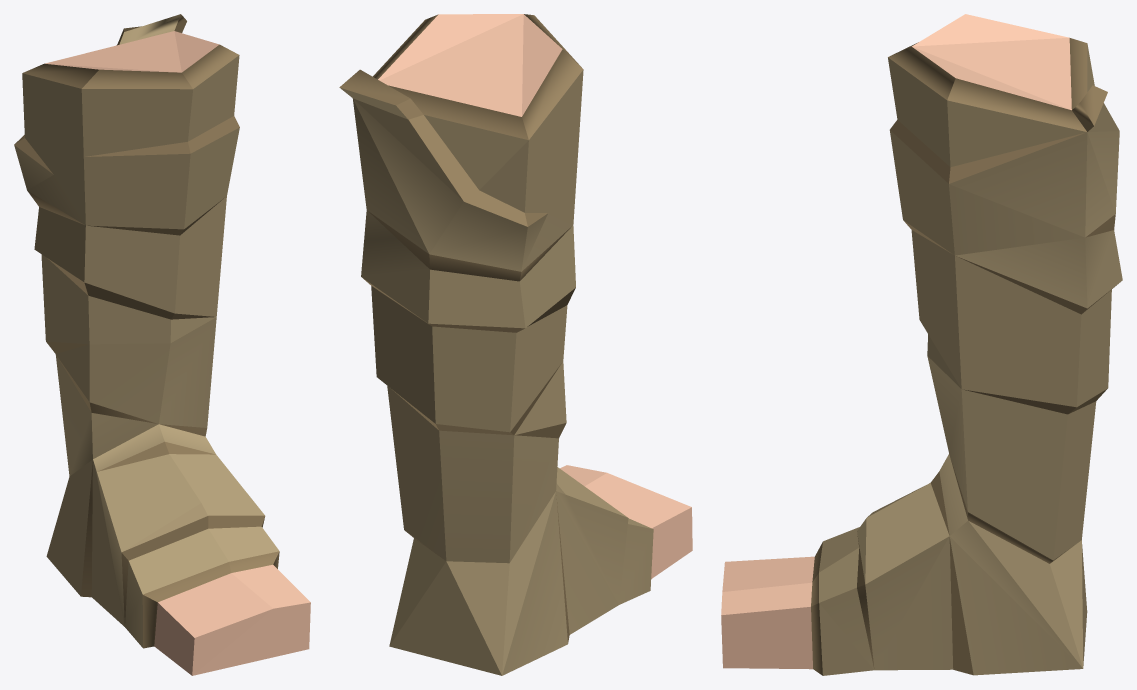
File: Chr_LegLeft_Male_03_Static.fbx
3 renders of one model, left to right at view 1: azimuth 30°, elevation 25°; view 2: azimuth 150°, elevation 25°; view 3: azimuth 270°, elevation 25°, orthographic. The views are drawn at different scales.
Visible parts, largest first — view 1: Chr_LegLeft_Male_03_Static; view 2: Chr_LegLeft_Male_03_Static; view 3: Chr_LegLeft_Male_03_Static.
Part boxes in pixels (left/top/right/bottom): Chr_LegLeft_Male_03_Static: left=14, top=14, right=310, bottom=675; Chr_LegLeft_Male_03_Static: left=339, top=14, right=692, bottom=675; Chr_LegLeft_Male_03_Static: left=721, top=14, right=1122, bottom=675.
Size of the model in its own units: 0.1379 by 0.4063 by 0.2463.
